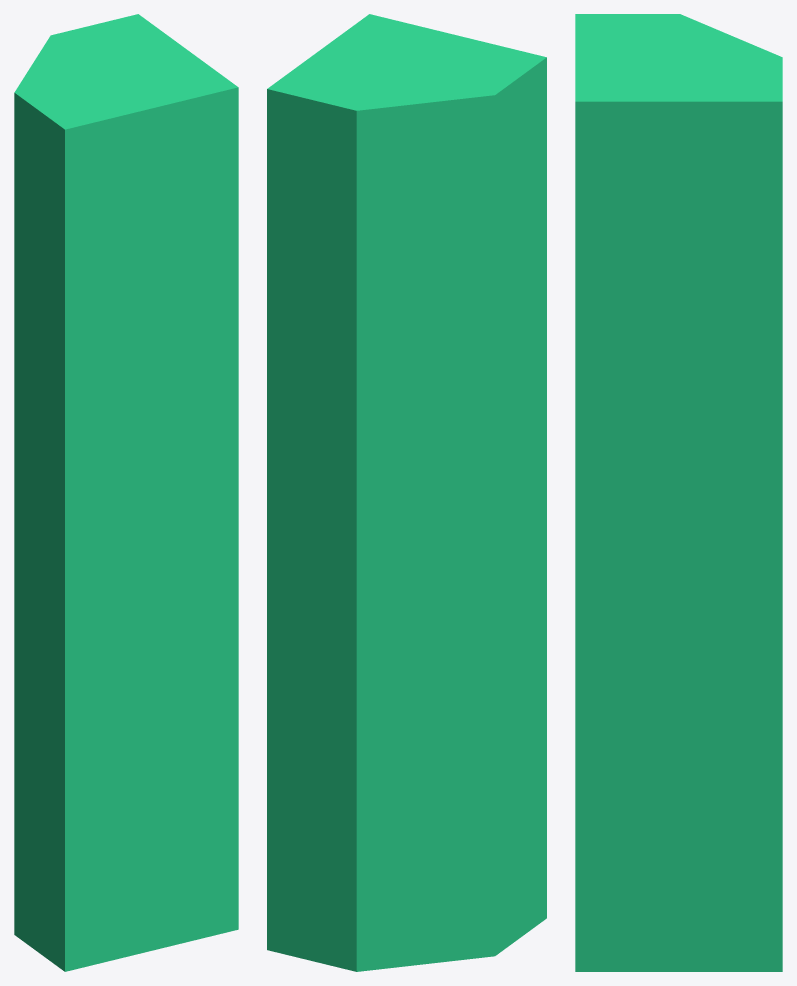
File: ColRailingBeamCorner.fbx
The picture shows the model from 3 angles, left to right: view 1: azimuth 30°, elevation 25°; view 2: azimuth 150°, elevation 25°; view 3: azimuth 270°, elevation 25°; orthographic projection. The views are drawn at different scales.
Parts seen in each view (by area): view 1: ColRailingBeamCorner; view 2: ColRailingBeamCorner; view 3: ColRailingBeamCorner.
Part boxes in pixels (x1,y1,x2,y2): ColRailingBeamCorner: [14, 14, 238, 971]; ColRailingBeamCorner: [267, 14, 546, 971]; ColRailingBeamCorner: [575, 14, 782, 971].
Size of the model in its own units: 24.47 by 113 by 24.47.
